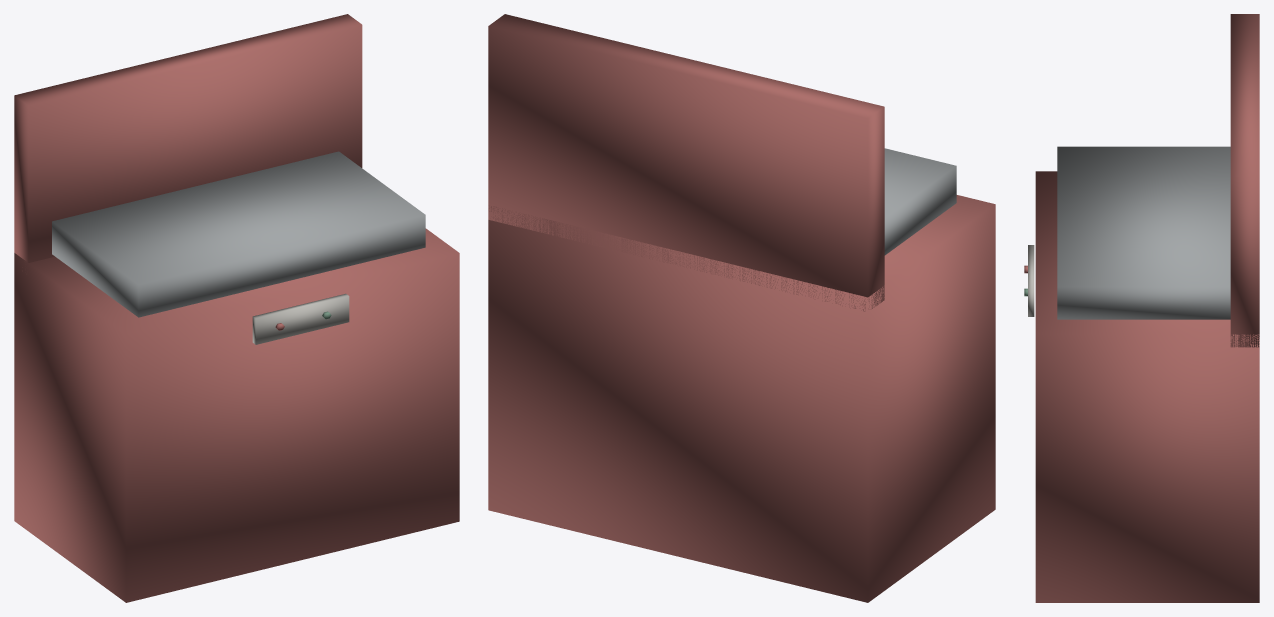
The model's file is parts_washer__wide.glb.
The picture shows the model from 3 angles, left to right: view 1: azimuth 30°, elevation 25°; view 2: azimuth 150°, elevation 25°; view 3: azimuth 270°, elevation 25°; orthographic projection. The views are drawn at different scales.
Parts seen in each view (by area): view 1: world; view 2: world; view 3: world.
Boxes of the visible parts, bbox=[...] form: world: bbox=[14, 14, 459, 602]; world: bbox=[488, 14, 995, 602]; world: bbox=[1024, 14, 1259, 602].
Size of the model in its own units: 1.07 by 1.3 by 0.651.
